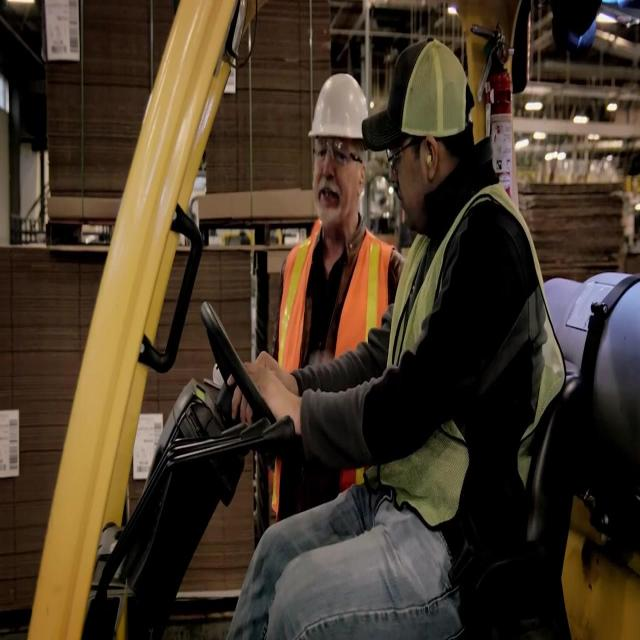Reflective-Jacket: (380, 179, 562, 533), (250, 216, 400, 527)
Safety-Helmet: (394, 34, 484, 151), (304, 64, 372, 155)
